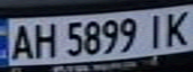5: (60, 18, 84, 57)
8: (81, 18, 103, 56)
9: (115, 15, 142, 54), (100, 17, 121, 55)
A: (3, 21, 39, 61)
H: (27, 19, 60, 60)
I: (142, 11, 169, 50)
K: (160, 7, 193, 47)
